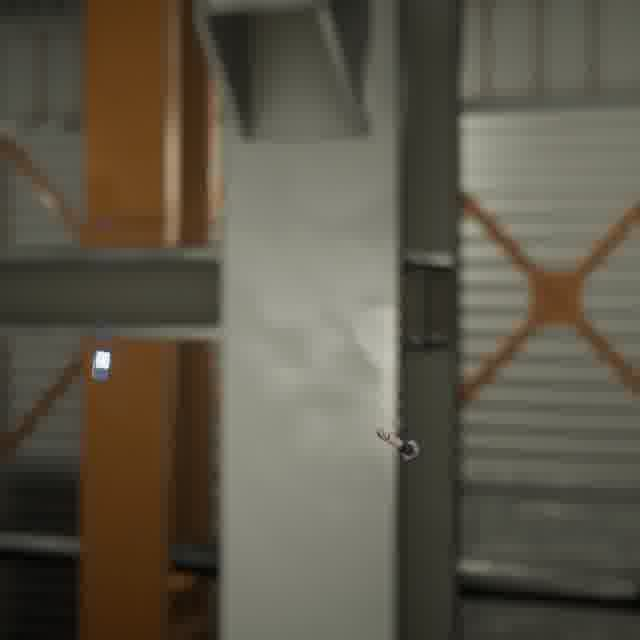bolt: (370, 423, 426, 465)
nut: (87, 343, 115, 385)
